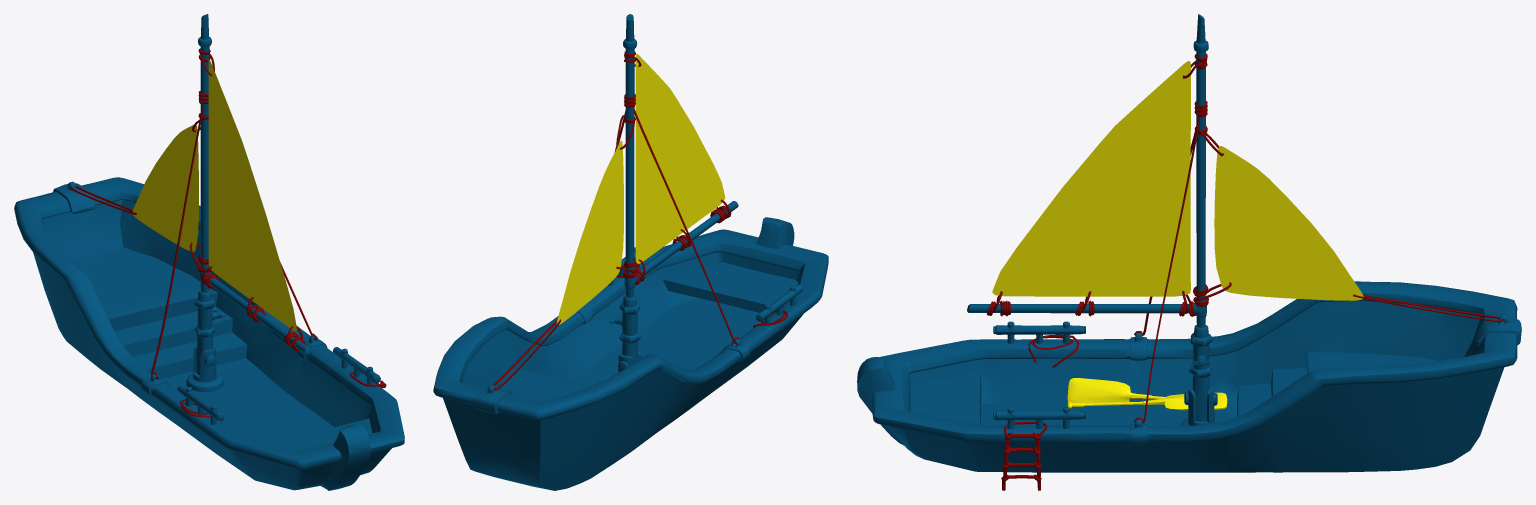
Rendered from BARCO POBRE V1.fbx.
The picture shows the model from 3 angles, left to right: view 1: azimuth 30°, elevation 25°; view 2: azimuth 150°, elevation 25°; view 3: azimuth 270°, elevation 25°; orthographic projection. The views are drawn at different scales.
Parts seen in each view (by area): view 1: BARCO_POBRE_V1_LOW B_BASE_LOW, BARCO_POBRE_V1_LOW B_VELAS_LOW, BARCO_POBRE_V1_LOW B_CUERDAS_LOW; view 2: BARCO_POBRE_V1_LOW B_BASE_LOW, BARCO_POBRE_V1_LOW B_VELAS_LOW, BARCO_POBRE_V1_LOW B_CUERDAS_LOW; view 3: BARCO_POBRE_V1_LOW B_BASE_LOW, BARCO_POBRE_V1_LOW B_VELAS_LOW, BARCO_POBRE_V1_LOW B_CUERDAS_LOW, B_REMO_LOW BARCO_POBRE_V1_LOW.
Part boxes in pixels (x1=…): BARCO_POBRE_V1_LOW B_BASE_LOW: x1=14, y1=14, x2=404, y2=490; BARCO_POBRE_V1_LOW B_VELAS_LOW: x1=132, y1=59, x2=296, y2=331; BARCO_POBRE_V1_LOW B_CUERDAS_LOW: x1=69, y1=48, x2=386, y2=417; BARCO_POBRE_V1_LOW B_BASE_LOW: x1=433, y1=14, x2=828, y2=490; BARCO_POBRE_V1_LOW B_VELAS_LOW: x1=556, y1=54, x2=725, y2=324; BARCO_POBRE_V1_LOW B_CUERDAS_LOW: x1=492, y1=51, x2=787, y2=391; BARCO_POBRE_V1_LOW B_BASE_LOW: x1=857, y1=14, x2=1521, y2=472; BARCO_POBRE_V1_LOW B_VELAS_LOW: x1=992, y1=61, x2=1363, y2=300; BARCO_POBRE_V1_LOW B_CUERDAS_LOW: x1=987, y1=53, x2=1504, y2=490; B_REMO_LOW BARCO_POBRE_V1_LOW: x1=1067, y1=378, x2=1227, y2=410.
Bounding box in the file's own units: 176 × 351 × 492.
